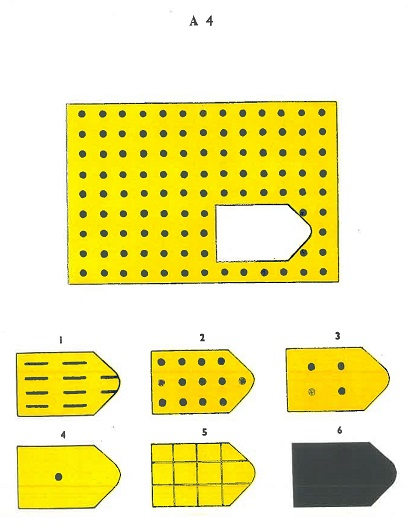Array 1: (10, 328, 123, 421)
Array 2: (145, 329, 259, 420)
Array 3: (282, 329, 396, 420)
Array 4: (10, 426, 126, 515)
Array 5: (146, 423, 261, 512)
Array 6: (282, 423, 399, 511)
Matrix: (59, 95, 344, 290)
Matrix Unknown: (213, 200, 315, 263)
